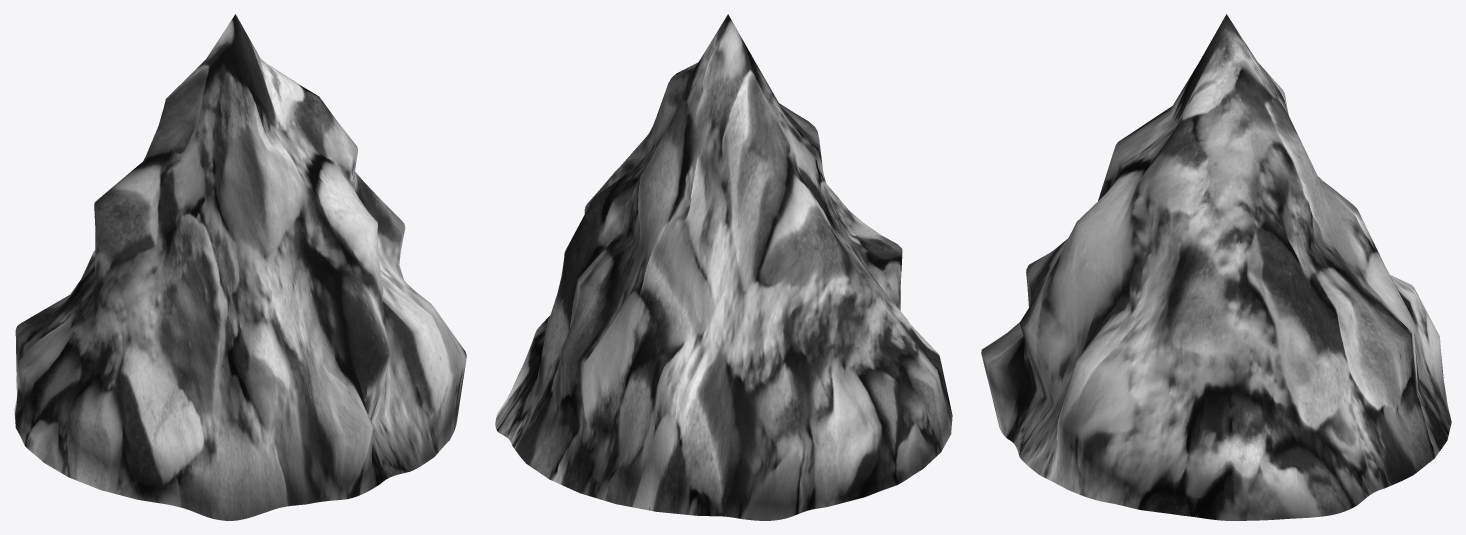
The model's file is Mountain.glb.
3 views of the same model, side by side, from view 1: azimuth 30°, elevation 25°; view 2: azimuth 150°, elevation 25°; view 3: azimuth 270°, elevation 25° (orthographic).
Visible parts, largest first — view 1: Cone; view 2: Cone; view 3: Cone.
Boxes of the visible parts, x1,y1,x2,y2 form: Cone: (14, 14, 466, 520); Cone: (495, 14, 952, 520); Cone: (981, 14, 1451, 520).
Bounding box in the file's own units: 2.02 × 2.03 × 2.09.
Materials: 1 (1 with a texture image).
